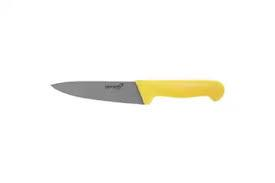Knife: (50, 79, 224, 105)
